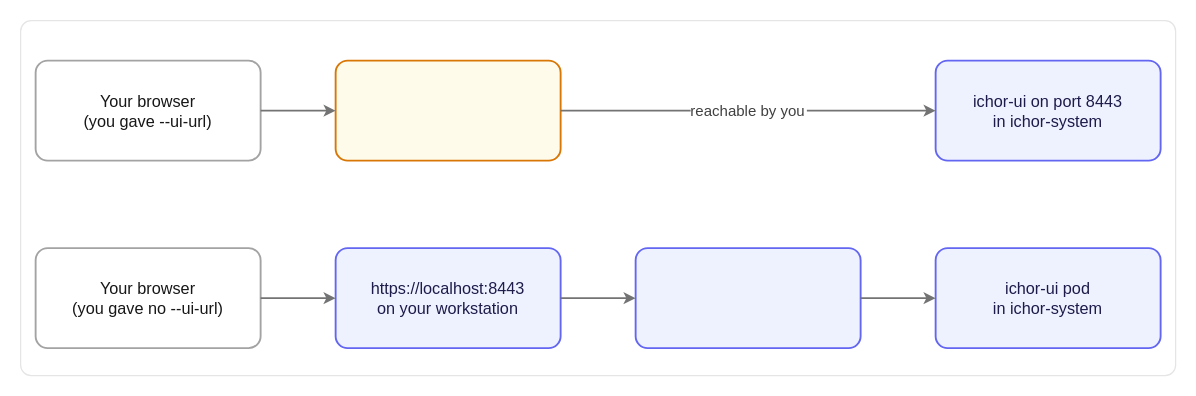
The diagram is 1196 pixels wide and 396 high, and some of its shapes have lost their labels. The shapes that lost their labels are listed below. From the top down, each one's centre as x and y in pixels, then its label:
At pixel 447 110: "The address you chose, e.g. https://192.168.1.60".
At pixel 747 297: "ichor ui port-forward keep it running".
